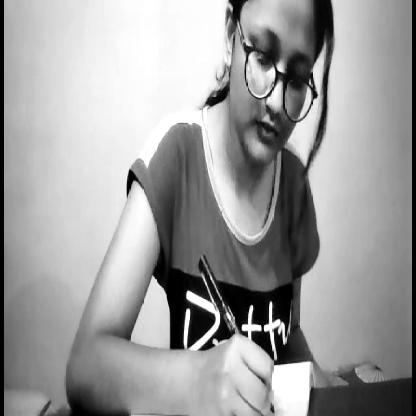Distracted: (230, 0, 334, 175)
